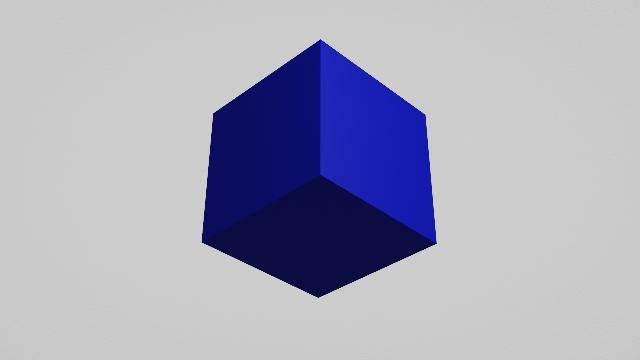Cube: (192, 34, 450, 308)
